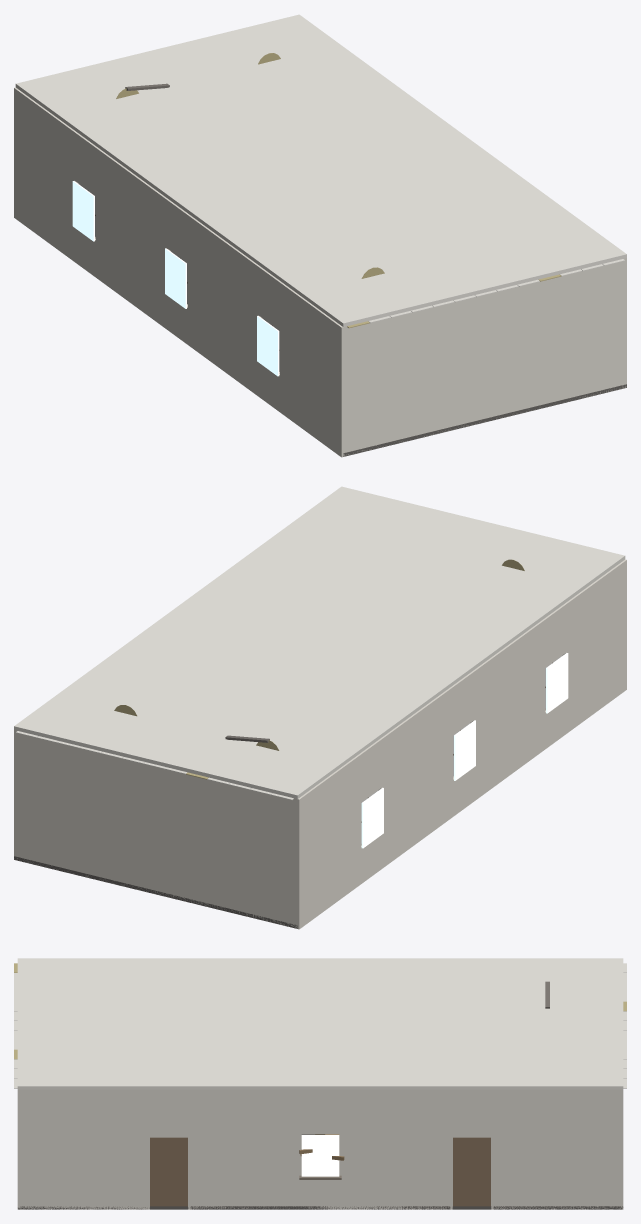
File: ClassRoom1.fbx
The picture shows the model from 3 angles, top to bottom: view 1: azimuth 30°, elevation 25°; view 2: azimuth 150°, elevation 25°; view 3: azimuth 270°, elevation 25°; orthographic projection. The views are drawn at different scales.
Visible parts, largest first — view 1: Ceiling_Classroom1, Wall_South, Wall_West_Above, Wall_West_Below, Wall_West_Full1, Wall_West_Full2, Wall_West_Full3, Wall_West_Full0, Wall_West_Strip0, Floor_Classroom1, Wall_West_Strip2, Window_West_01_Sky (+3 smaller); view 2: Ceiling_Classroom1, Wall_North, Wall_West_Above, Wall_West_Below, Wall_West_Full2, Wall_West_Full3, Wall_West_Full1, Wall_West_Full0, Wall_West_Strip3, Wall_West_Strip1, Wall_West_Strip2, Floor_Classroom1 (+4 smaller); view 3: Ceiling_Classroom1, Wall_East_A, Wall_East_C, Wall_East_B_Right, Wall_East_B_Left, Door_East_1, Door_East_2, Floor_Classroom1, Wall_East_B_Above, Wall_East_AboveDoor1, Wall_East_AboveDoor2, Window_East_Sky (+1 smaller).
Part boxes in pixels (x1=…): Ceiling_Classroom1: x1=15, y1=14, x2=626, y2=326; Wall_South: x1=343, y1=258, x2=626, y2=454; Wall_West_Above: x1=14, y1=87, x2=344, y2=375; Wall_West_Below: x1=14, y1=181, x2=344, y2=457; Wall_West_Full1: x1=188, y1=215, x2=260, y2=397; Wall_West_Full2: x1=96, y1=147, x2=170, y2=329; Wall_West_Full3: x1=14, y1=87, x2=78, y2=262; Wall_West_Full0: x1=280, y1=282, x2=344, y2=457; Wall_West_Strip0: x1=280, y1=331, x2=344, y2=419; Floor_Classroom1: x1=343, y1=384, x2=626, y2=456; Wall_West_Strip2: x1=96, y1=196, x2=170, y2=271; Window_West_01_Sky: x1=257, y1=315, x2=279, y2=376; Ceiling_Classroom1: x1=14, y1=486, x2=625, y2=798; Wall_North: x1=14, y1=731, x2=297, y2=928; Wall_West_Above: x1=296, y1=559, x2=626, y2=847; Wall_West_Below: x1=296, y1=653, x2=626, y2=929; Wall_West_Full2: x1=378, y1=687, x2=452, y2=837; Wall_West_Full3: x1=296, y1=755, x2=360, y2=928; Wall_West_Full1: x1=472, y1=619, x2=544, y2=762; Wall_West_Full0: x1=562, y1=560, x2=626, y2=709; Wall_West_Strip3: x1=296, y1=804, x2=360, y2=891; Wall_West_Strip1: x1=470, y1=669, x2=544, y2=754; Wall_West_Strip2: x1=380, y1=735, x2=452, y2=829; Floor_Classroom1: x1=14, y1=856, x2=297, y2=928; Ceiling_Classroom1: x1=17, y1=958, x2=623, y2=1089; Wall_East_A: x1=17, y1=1089, x2=149, y2=1209; Wall_East_C: x1=491, y1=1089, x2=623, y2=1209; Wall_East_B_Right: x1=339, y1=1089, x2=452, y2=1209; Wall_East_B_Left: x1=188, y1=1089, x2=301, y2=1209; Door_East_1: x1=150, y1=1137, x2=187, y2=1206; Door_East_2: x1=453, y1=1137, x2=490, y2=1206; Floor_Classroom1: x1=18, y1=1134, x2=623, y2=1209; Wall_East_B_Above: x1=301, y1=1089, x2=339, y2=1134; Wall_East_AboveDoor1: x1=150, y1=1089, x2=187, y2=1134; Wall_East_AboveDoor2: x1=453, y1=1089, x2=490, y2=1134; Window_East_Sky: x1=301, y1=1135, x2=339, y2=1176.
Size of the model in its own units: 831 by 413 by 1619.
